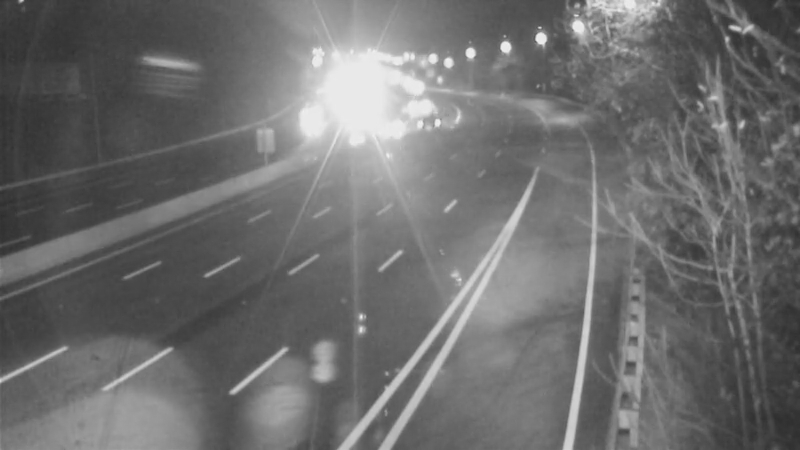vehicle: (391, 60, 441, 110), (396, 82, 446, 132), (400, 105, 450, 155), (370, 102, 420, 152), (283, 96, 333, 146)
